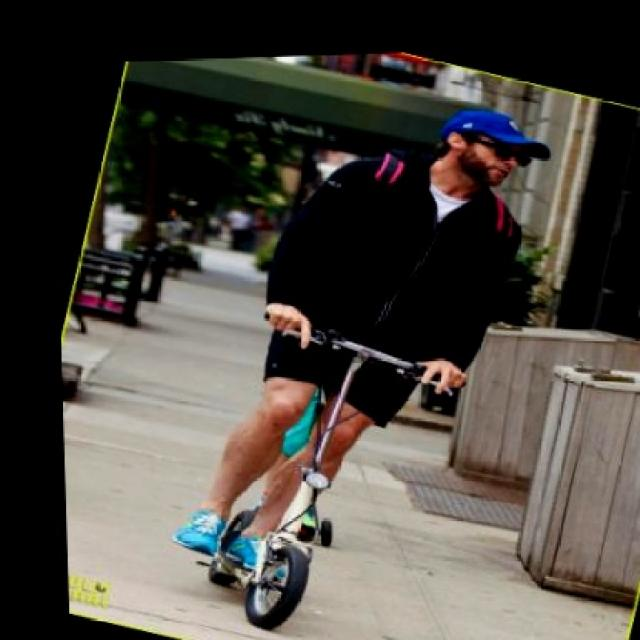bare_head: (428, 106, 554, 200)
human: (182, 106, 528, 562)
kickboard: (214, 499, 331, 634)
